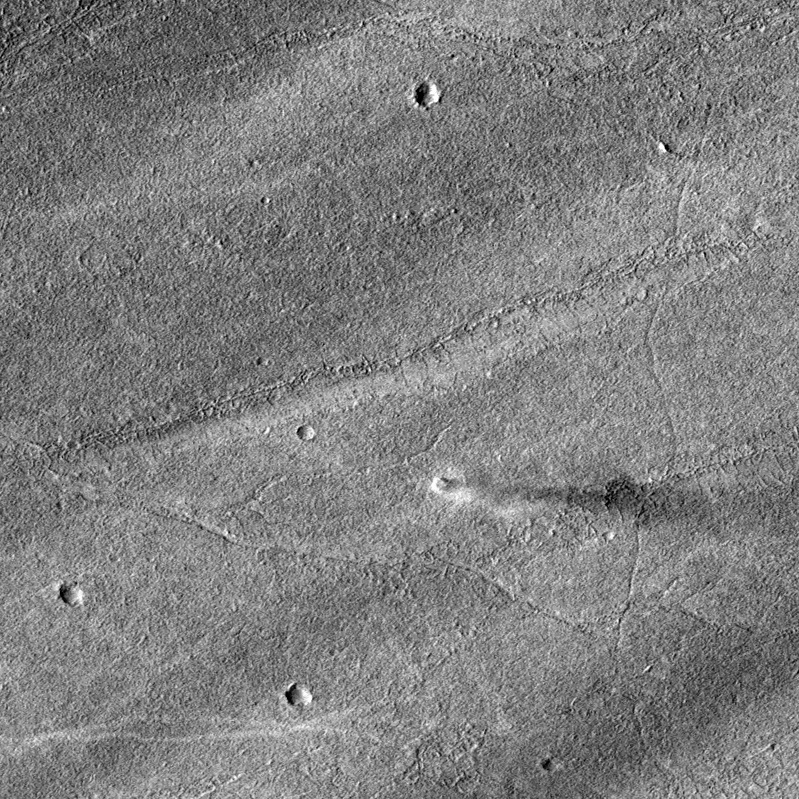dust_devil: (428, 468, 729, 544)
